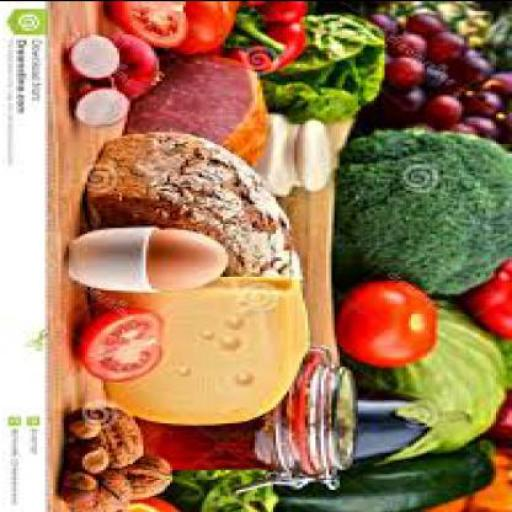biodegradable: (90, 276, 314, 422), (85, 129, 305, 276), (336, 119, 511, 292), (361, 293, 509, 449), (128, 53, 272, 166), (276, 444, 498, 510), (262, 8, 390, 118), (337, 275, 441, 364), (135, 402, 276, 466), (374, 2, 511, 66), (358, 389, 475, 461), (82, 303, 168, 379), (223, 1, 311, 70), (148, 224, 234, 288), (93, 30, 167, 96), (176, 465, 282, 510), (459, 256, 511, 335), (169, 1, 246, 52), (116, 1, 194, 43), (90, 407, 146, 463), (111, 454, 178, 496), (74, 468, 135, 510), (76, 84, 136, 123), (475, 449, 511, 511), (72, 32, 125, 74), (480, 384, 511, 448), (387, 84, 435, 118), (428, 26, 472, 58), (72, 439, 114, 469), (61, 469, 100, 501), (390, 27, 430, 57), (69, 406, 103, 436), (425, 92, 464, 118), (459, 53, 496, 80), (467, 113, 507, 137), (395, 55, 430, 82), (487, 66, 511, 104), (465, 88, 504, 111), (432, 488, 470, 510), (372, 10, 406, 32), (409, 12, 448, 31), (130, 497, 183, 510), (440, 76, 472, 96), (430, 61, 456, 85), (446, 121, 478, 133), (467, 43, 488, 57), (506, 335, 511, 385)
glass: (141, 344, 364, 488)
